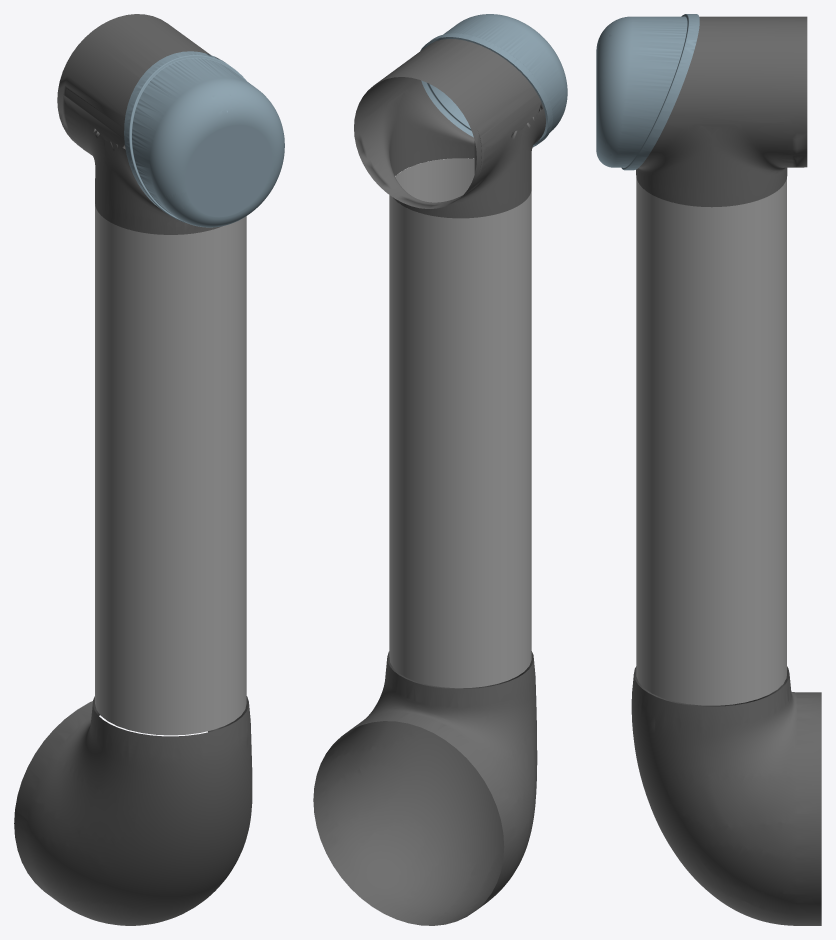
File: forearm.dae
3 renders of one model, left to right at view 1: azimuth 30°, elevation 25°; view 2: azimuth 150°, elevation 25°; view 3: azimuth 270°, elevation 25°, orthographic. The views are drawn at different scales.
Visible parts, largest first — view 1: Actor1, Actor3, Actor0_001, Actor2; view 2: Actor1, Actor3, Actor2, Actor0_001; view 3: Actor1, Actor3, Actor2, Actor0_001.
Part boxes in pixels (left/top/right/bottom): Actor1: left=95, top=204, right=246, bottom=735; Actor3: left=14, top=696, right=252, bottom=925; Actor0_001: left=124, top=51, right=284, bottom=227; Actor2: left=57, top=14, right=222, bottom=234; Actor1: left=389, top=158, right=531, bottom=688; Actor3: left=313, top=651, right=537, bottom=925; Actor2: left=354, top=39, right=545, bottom=218; Actor0_001: left=420, top=14, right=567, bottom=147; Actor1: left=636, top=178, right=786, bottom=705; Actor3: left=631, top=666, right=821, bottom=925; Actor2: left=636, top=16, right=807, bottom=207; Actor0_001: left=596, top=14, right=699, bottom=170.
Size of the model in its own units: 0.116 by 0.1117 by 0.4892.
